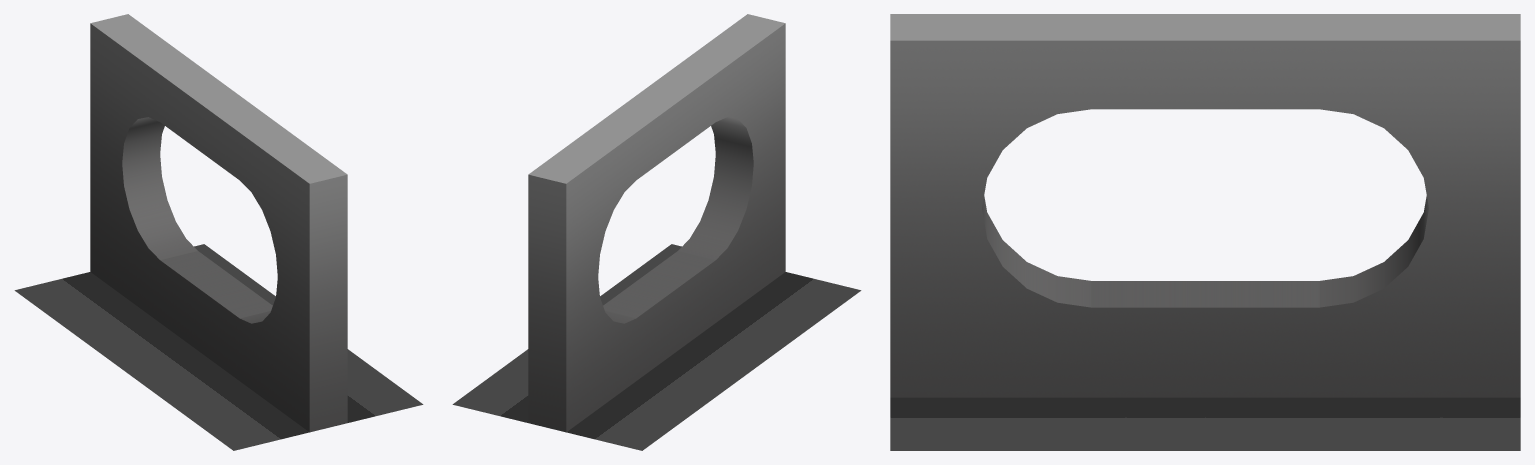
Rendered from SM_MuurRondRaam.fbx.
The picture shows the model from 3 angles, left to right: view 1: azimuth 30°, elevation 25°; view 2: azimuth 150°, elevation 25°; view 3: azimuth 270°, elevation 25°; orthographic projection. The views are drawn at different scales.
Visible parts, largest first — view 1: SM_muurRondRaam; view 2: SM_muurRondRaam; view 3: SM_muurRondRaam.
Part boxes in pixels (x1,y1,x2,y2): SM_muurRondRaam: (14,14,423,450); SM_muurRondRaam: (452,14,861,450); SM_muurRondRaam: (890,14,1520,450).
Bounding box in the file's own units: 200 × 250 × 400.
